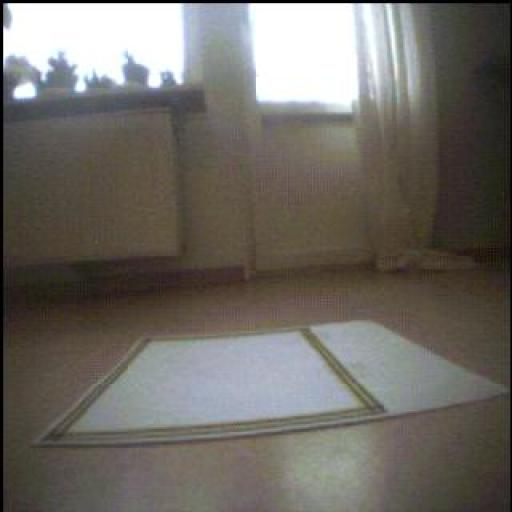Pad: (40, 323, 509, 446)
